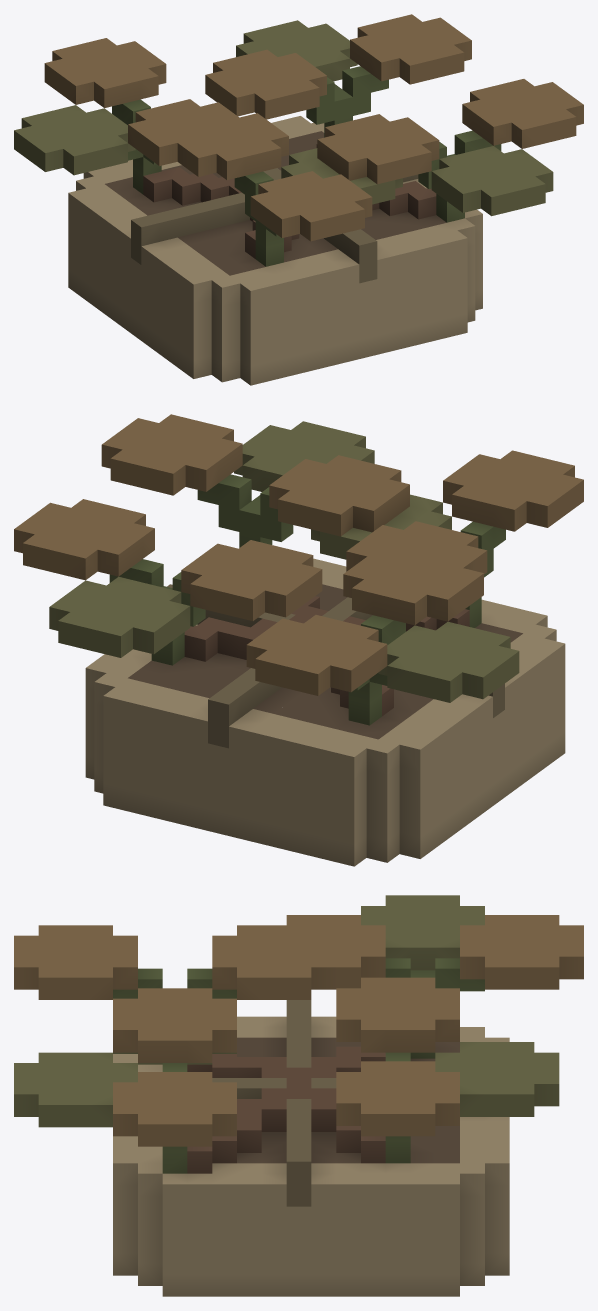
The model's file is wild_strawberry_packed_autumn.glb.
The picture shows the model from 3 angles, top to bottom: view 1: azimuth 30°, elevation 25°; view 2: azimuth 150°, elevation 25°; view 3: azimuth 270°, elevation 25°; orthographic projection. The views are drawn at different scales.
Parts seen in each view (by area): view 1: VoxelVisual; view 2: VoxelVisual; view 3: VoxelVisual.
Part boxes in pixels (x1=…): VoxelVisual: x1=14, y1=14, x2=583, y2=385; VoxelVisual: x1=14, y1=414, x2=583, y2=866; VoxelVisual: x1=14, y1=895, x2=583, y2=1296.
Size of what is drawn, in the model's own units: 1.5 by 0.625 by 1.44.
